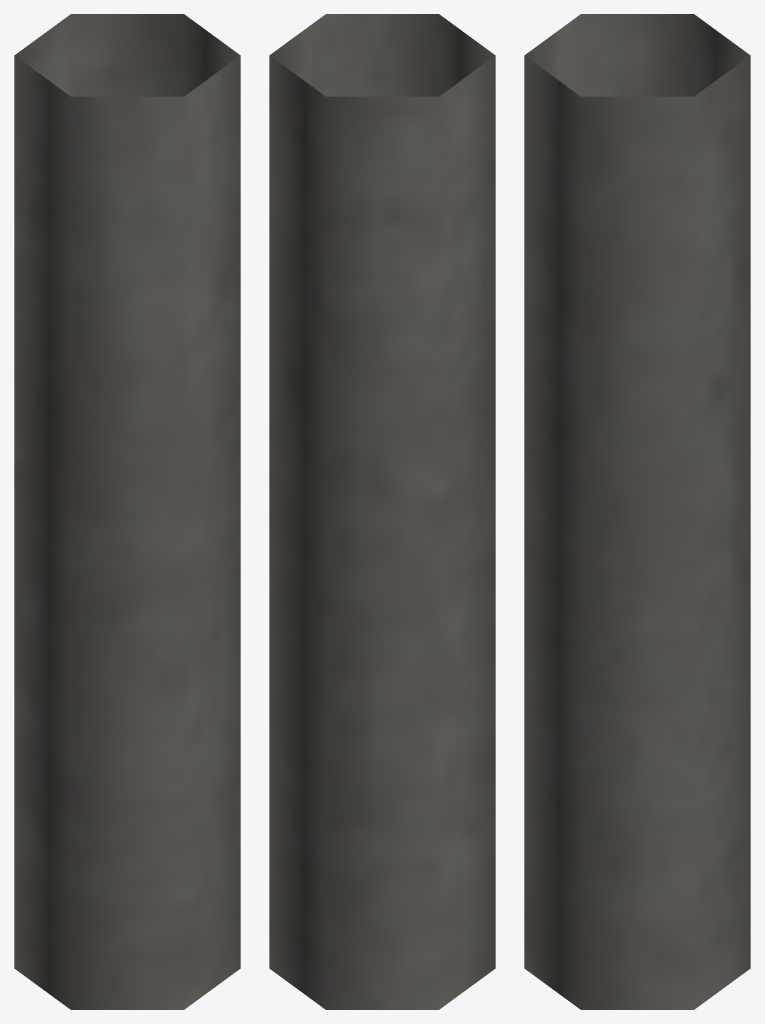
Rendered from cable_5cm.gltf.
3 renders of one model, left to right at view 1: azimuth 30°, elevation 25°; view 2: azimuth 150°, elevation 25°; view 3: azimuth 270°, elevation 25°, orthographic.
Parts seen in each view (by area): view 1: cable_5cm; view 2: cable_5cm; view 3: cable_5cm.
Boxes of the visible parts, <box> form: cable_5cm: <box>14,14,240,1009</box>; cable_5cm: <box>269,14,495,1009</box>; cable_5cm: <box>524,14,750,1009</box>.
Bounding box in the file's own units: 0.00971 × 0.05 × 0.0112.
Materials: 1 (1 with a texture image).
